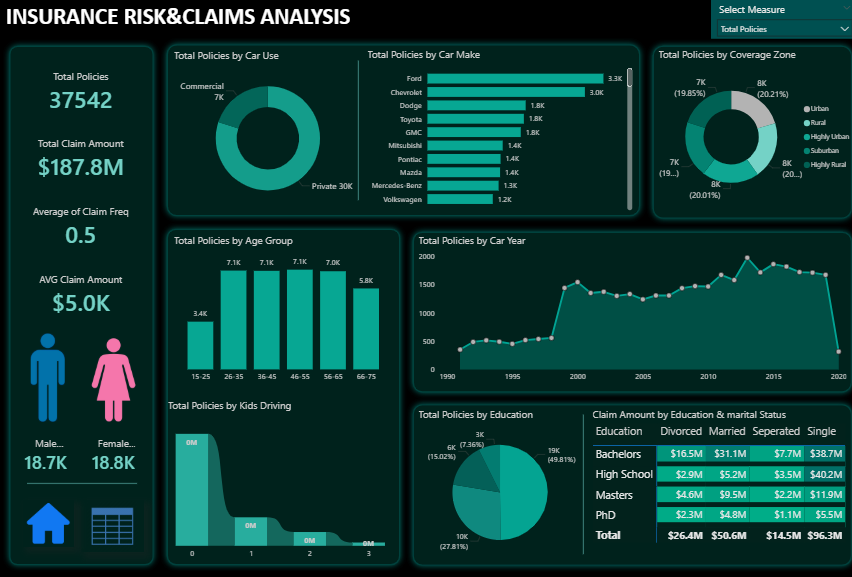

What the dashboard file says about the page in this screenshot:
{"tool":"powerbi","page":{"name":"Page 1","canvas":[1400,950],"ordinal":0},"visuals":[{"type":"textbox","box":[10,0,577.1,64.3],"z":0},{"type":"shape","box":[10,65,255,865],"z":1000},{"type":"cardVisual","fields":{"Data":["measure.Total Policies","measure.Total Claim Amount","Avg(insurance_data_car.Claim Freq)","measure.AVG Claim Amount"]},"box":[28.6,84.3,214.3,460],"z":2000},{"type":"cardVisual","fields":{"Data":["measure.Male Count","measure.Female Count"]},"box":[15.7,682.9,240,117.1],"z":3000},{"type":"slicer","fields":{"Values":["Select Measure.Select Measure"]},"box":[1160,1.1,240,64.4],"z":4000},{"type":"shape","box":[265.7,64.3,790,300],"z":5000},{"type":"donutChart","fields":{"Y":["measure.Total Policies"],"Category":["insurance_data_car.Car Use"]},"box":[282.9,81.4,314.3,270],"z":6000},{"type":"clusteredBarChart","fields":{"Y":["measure.Total Policies"],"Category":["insurance_data_car.Car Make"]},"box":[597.1,78.6,440,270],"z":7000},{"type":"shape","box":[1055.7,65.7,344.3,301.4],"z":8000},{"type":"donutChart","fields":{"Y":["measure.Total Policies"],"Category":["insurance_data_car.Coverage Zone"]},"box":[1071.4,78.6,328.6,270],"z":9000},{"type":"shape","box":[265.7,364.3,400,567.1],"z":10000},{"type":"clusteredColumnChart","fields":{"Y":["measure.Total Policies"],"Category":["insurance_data_car.Age Group"]},"box":[282.9,381.4,365.7,251.4],"z":11000},{"type":"ribbonChart","fields":{"Y":["measure.Total Policies"],"Category":["insurance_data_car.Kids Driving"]},"box":[274.3,648.6,374.3,270],"z":12000},{"type":"shape","box":[665.7,367.1,734.3,281.4],"z":13000},{"type":"areaChart","fields":{"Y":["measure.Total Policies"],"Category":["insurance_data_car.Car Year"]},"box":[680,381.4,705.7,251.4],"z":14000},{"type":"shape","box":[665.7,648.6,734.3,282.9],"z":15000},{"type":"pieChart","fields":{"Y":["measure.Total Policies"],"Category":["insurance_data_car.Education"]},"box":[680,662.9,274.3,255.7],"z":16000},{"type":"pivotTable","title":"Claim Amount by Education & marital Status","fields":{"Rows":["insurance_data_car.Education"],"Columns":["insurance_data_car.Marital Status"],"Values":["measure.Total Claim Amount"]},"box":[964.3,662.9,421.4,255.7],"z":17000},{"type":"shape","box":[551.4,100,72.9,227.1],"z":18000},{"type":"shape","box":[917.1,675.7,72.9,227.1],"z":19000},{"type":"shape","box":[48,752,179,73],"z":20000},{"type":"image","box":[121,475,135,287],"z":21000},{"type":"image","box":[27,544,111,143],"z":22000},{"type":"image","box":[41,814,84,76],"z":23000},{"type":"image","box":[136,814,102,85],"z":23001}]}

Visuals, with their boxes in screenshot pixels (x1, y1, x2, y2), scaled from the page's 1400x950 canvas onto the 852x577 screenshot:
textbox: <bbox>6, 0, 357, 39</bbox>
shape: <bbox>6, 39, 161, 565</bbox>
cardVisual - measure.Total Policies x measure.Total Claim Amount: <bbox>17, 51, 148, 331</bbox>
cardVisual - measure.Male Count x measure.Female Count: <bbox>10, 415, 156, 486</bbox>
slicer - Select Measure.Select Measure: <bbox>706, 1, 851, 40</bbox>
shape: <bbox>162, 39, 642, 221</bbox>
donutChart - measure.Total Policies x insurance_data_car.Car Use: <bbox>172, 49, 363, 213</bbox>
clusteredBarChart - measure.Total Policies x insurance_data_car.Car Make: <bbox>363, 48, 631, 212</bbox>
shape: <bbox>642, 40, 851, 223</bbox>
donutChart - measure.Total Policies x insurance_data_car.Coverage Zone: <bbox>652, 48, 851, 212</bbox>
shape: <bbox>162, 221, 405, 566</bbox>
clusteredColumnChart - measure.Total Policies x insurance_data_car.Age Group: <bbox>172, 232, 395, 384</bbox>
ribbonChart - measure.Total Policies x insurance_data_car.Kids Driving: <bbox>167, 394, 395, 558</bbox>
shape: <bbox>405, 223, 851, 394</bbox>
areaChart - measure.Total Policies x insurance_data_car.Car Year: <bbox>414, 232, 843, 384</bbox>
shape: <bbox>405, 394, 851, 566</bbox>
pieChart - measure.Total Policies x insurance_data_car.Education: <bbox>414, 403, 581, 558</bbox>
"Claim Amount by Education & marital Status" pivotTable: <bbox>587, 403, 843, 558</bbox>
shape: <bbox>336, 61, 380, 199</bbox>
shape: <bbox>558, 410, 602, 548</bbox>
shape: <bbox>29, 457, 138, 501</bbox>
image: <bbox>74, 288, 156, 463</bbox>
image: <bbox>16, 330, 84, 417</bbox>
image: <bbox>25, 494, 76, 541</bbox>
image: <bbox>83, 494, 145, 546</bbox>
